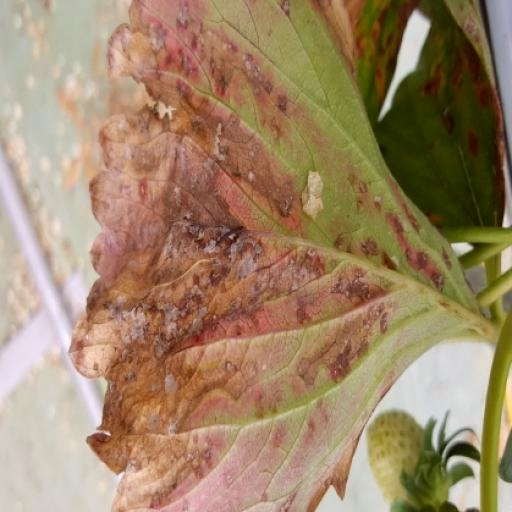Angular Leafspot: (19, 0, 446, 511), (6, 1, 157, 230)
